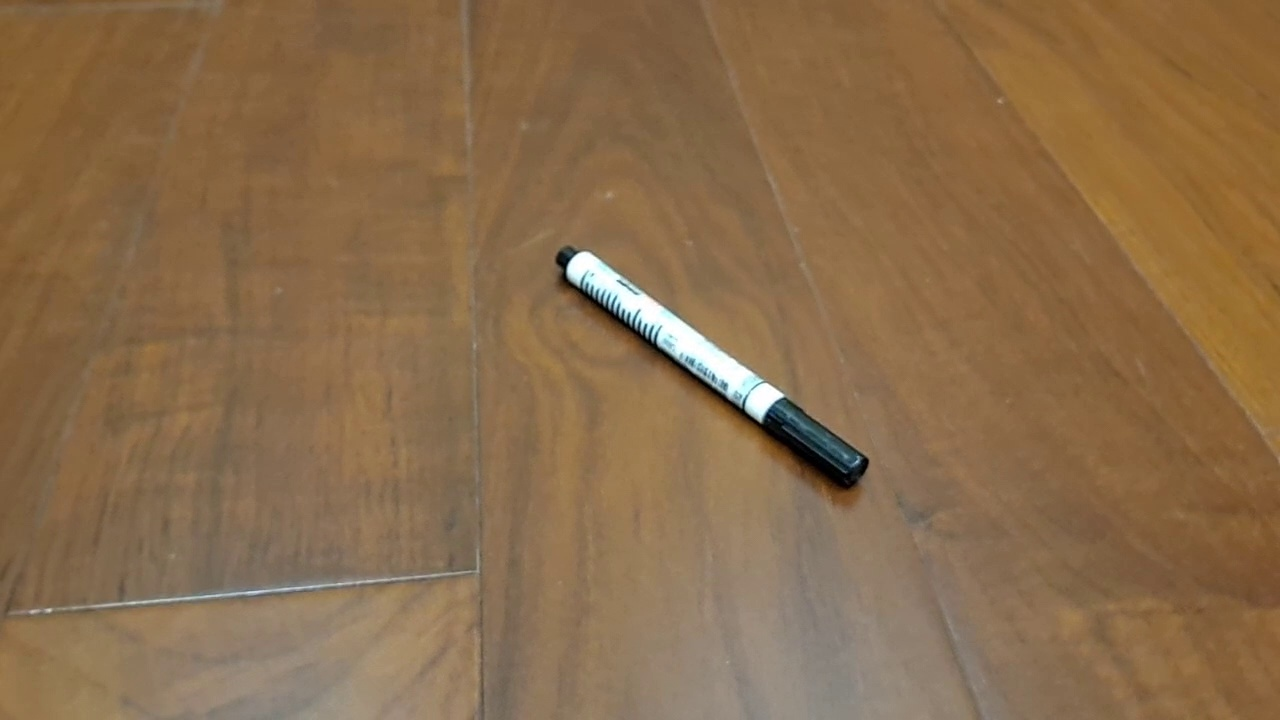pen: (554, 244, 870, 491)
